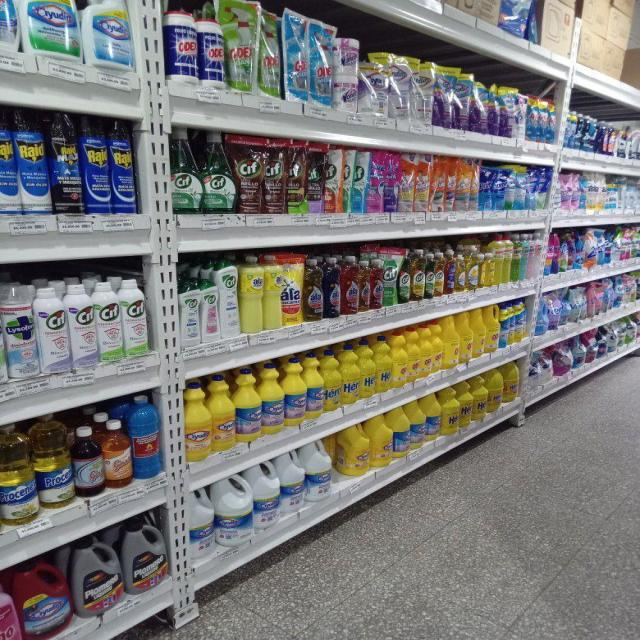ala_conc_amarillo: (303, 256, 323, 322)
ala_conc_azul: (324, 256, 341, 318)
ala_conc_rojo: (342, 255, 358, 316), (358, 258, 371, 312), (372, 258, 382, 309)
ala_crem_amarillo: (240, 254, 262, 334), (264, 253, 281, 330)
ala_sachet_amarillo: (282, 254, 302, 326)
cif_conc_bot_amarilla: (411, 249, 424, 301), (445, 251, 456, 295), (435, 252, 444, 297)
cif_conc_botella_verde: (202, 132, 235, 214), (172, 130, 201, 213), (398, 247, 410, 304), (424, 251, 434, 299)
cif_conc_sachet_verde: (382, 248, 397, 306)
drive: (323, 144, 342, 213), (366, 149, 384, 213), (385, 151, 399, 212)
magistral_con_amarillo: (467, 250, 478, 290), (456, 250, 466, 292), (480, 252, 488, 288), (478, 251, 482, 289)
